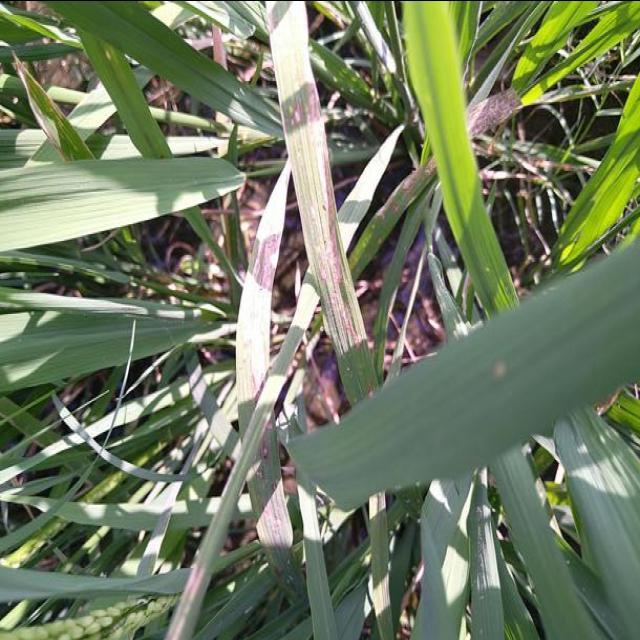Leaf Streak: (266, 0, 380, 406), (236, 157, 292, 404), (348, 150, 439, 269), (248, 422, 306, 592), (14, 51, 94, 161), (468, 88, 524, 135)
